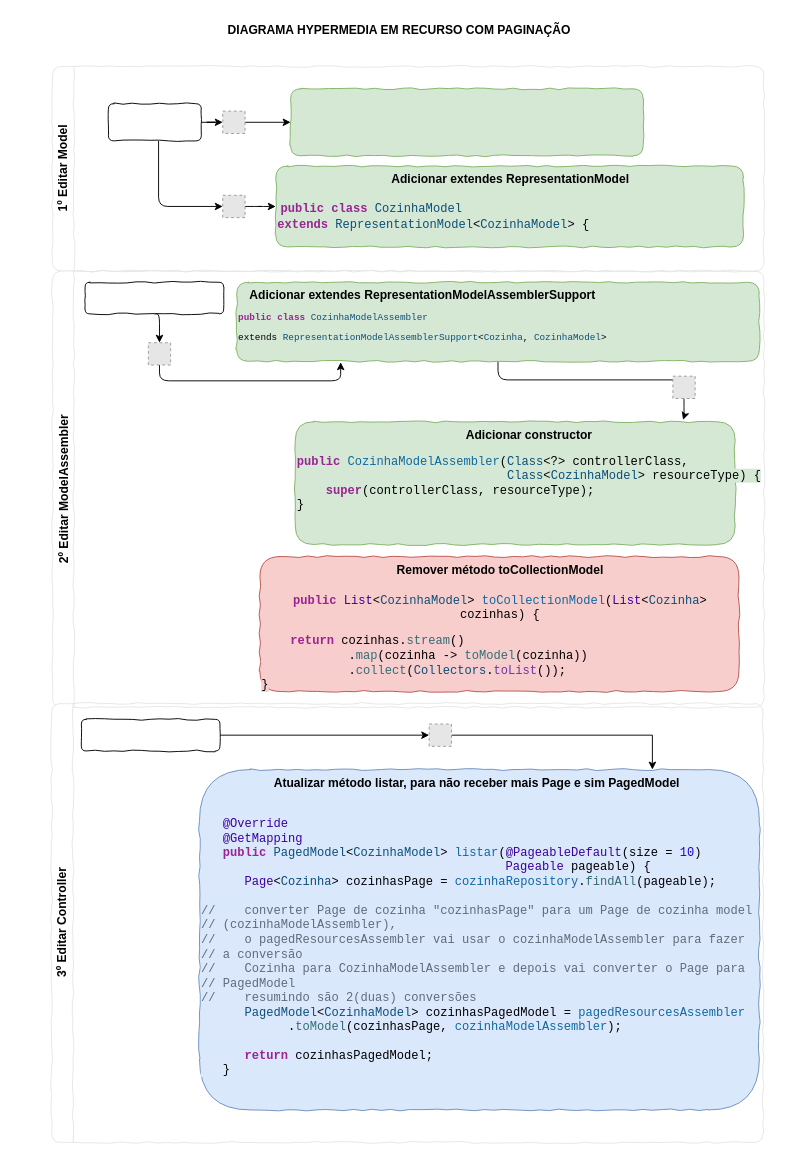
The diagram is 798 pixels wide and 1159 high, and some of its shapes have lost their labels. Grey dashed boxes stand in for pictures. Each missing label, with the centre of its shape:
Adicionar annotattion @Relation @Relation (collectionRelation = "cozinhas" ): the point at 466,122
CozinhaController: the point at 150,734
CozinhaModel: the point at 154,122
CozinhaModelAssembler: the point at 154,297
